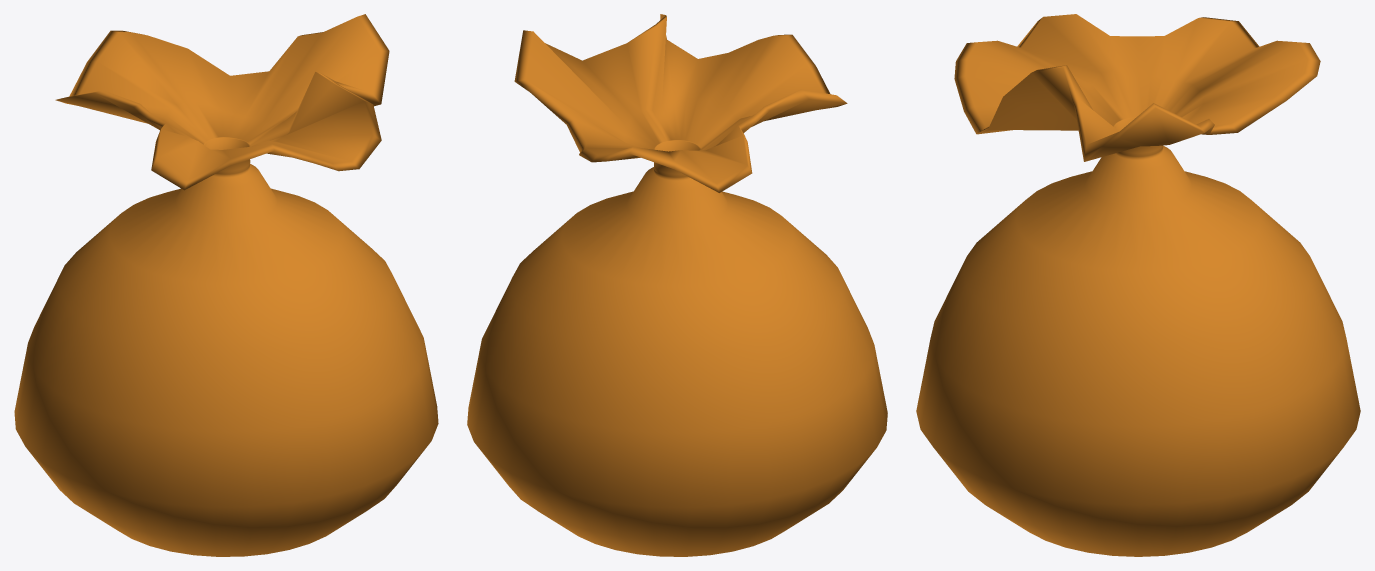
File: saco.fbx
The picture shows the model from 3 angles, left to right: view 1: azimuth 30°, elevation 25°; view 2: azimuth 150°, elevation 25°; view 3: azimuth 270°, elevation 25°; orthographic projection. The views are drawn at different scales.
Visible parts, largest first — view 1: Sphere; view 2: Sphere; view 3: Sphere.
Boxes of the visible parts, <box> form: Sphere: <box>14,14,438,556</box>; Sphere: <box>467,14,887,556</box>; Sphere: <box>916,14,1360,556</box>.
Bounding box in the file's own units: 127 × 157 × 127.
